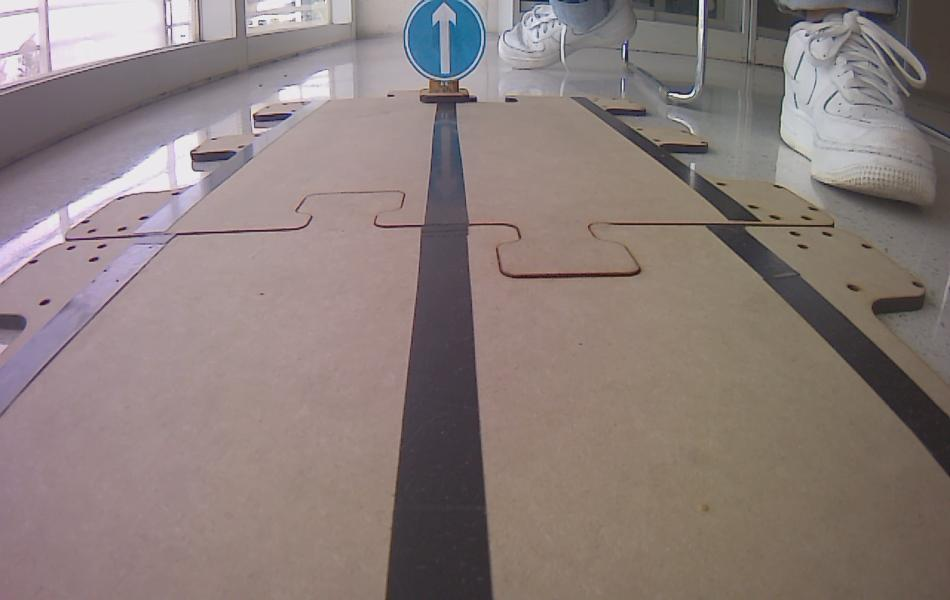straight: (405, 0, 486, 80)
